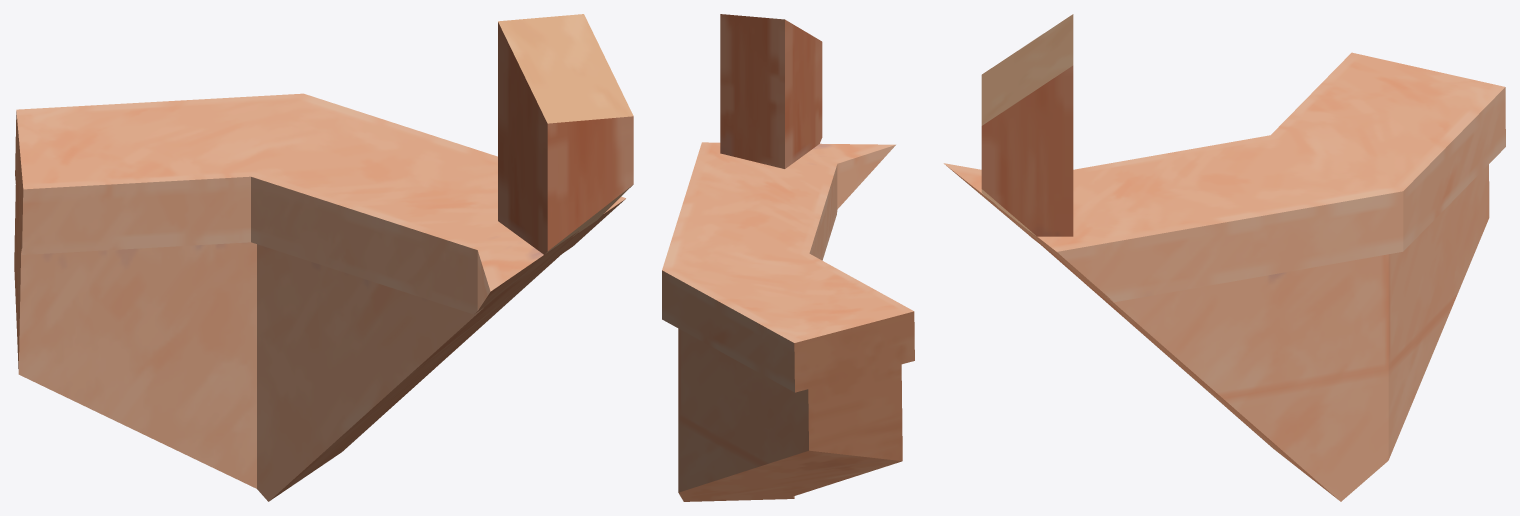
File: well_s05.fbx
3 renders of one model, left to right at view 1: azimuth 30°, elevation 25°; view 2: azimuth 150°, elevation 25°; view 3: azimuth 270°, elevation 25°, orthographic. The views are drawn at different scales.
Visible parts, largest first — view 1: well_s05; view 2: well_s05; view 3: well_s05.
Part boxes in pixels (bbox=[...]): well_s05: bbox=[14, 14, 633, 501]; well_s05: bbox=[662, 14, 914, 501]; well_s05: bbox=[943, 14, 1505, 501].
Bounding box in the file's own units: 2.27 × 2.61 × 2.7.
